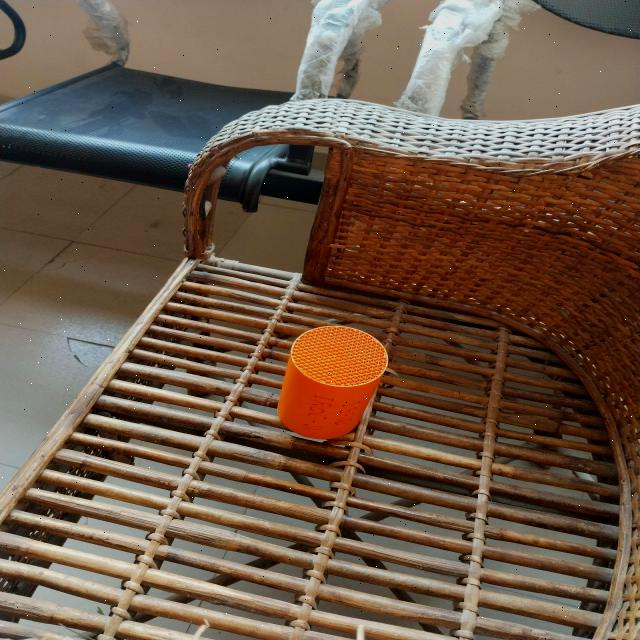Cylinder: (276, 324, 390, 442)
